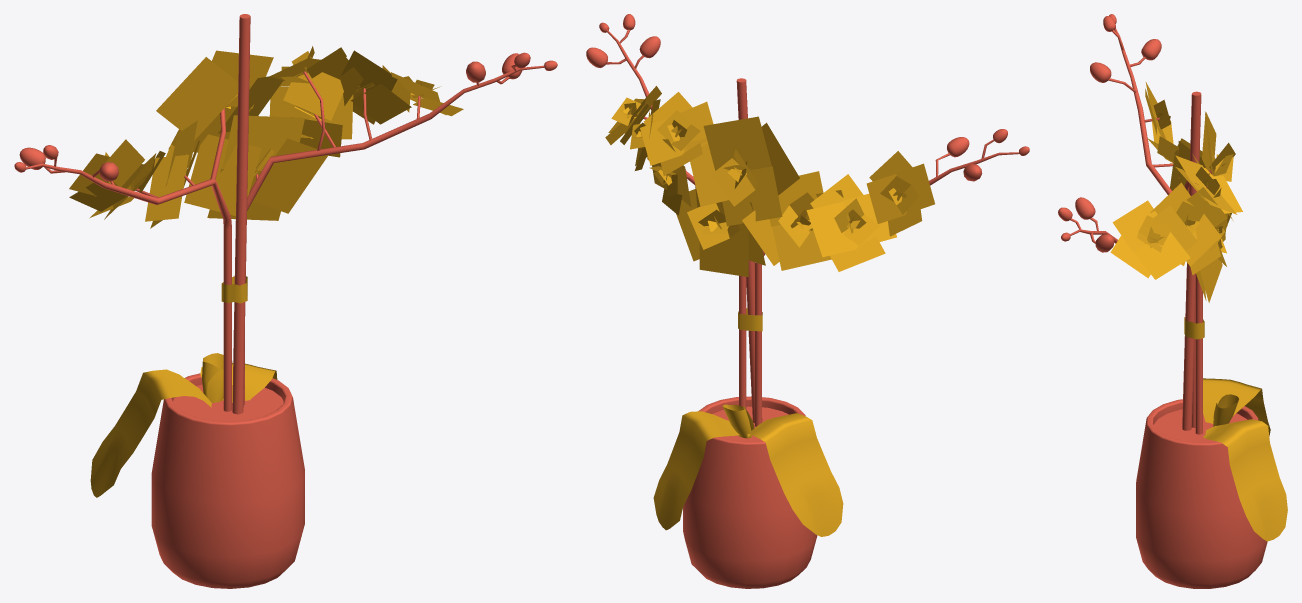
File: çiçek.fbx
3 renders of one model, left to right at view 1: azimuth 30°, elevation 25°; view 2: azimuth 150°, elevation 25°; view 3: azimuth 270°, elevation 25°, orthographic. The views are drawn at different scales.
Visible parts, largest first — view 1: pCylinder20; view 2: pCylinder20; view 3: pCylinder20.
Part boxes in pixels (x1,y1,x2,y2): pCylinder20: (14, 14, 557, 588); pCylinder20: (586, 14, 1029, 588); pCylinder20: (1058, 14, 1287, 588).
Size of the model in its own units: 38.28 by 38.84 by 16.88.
